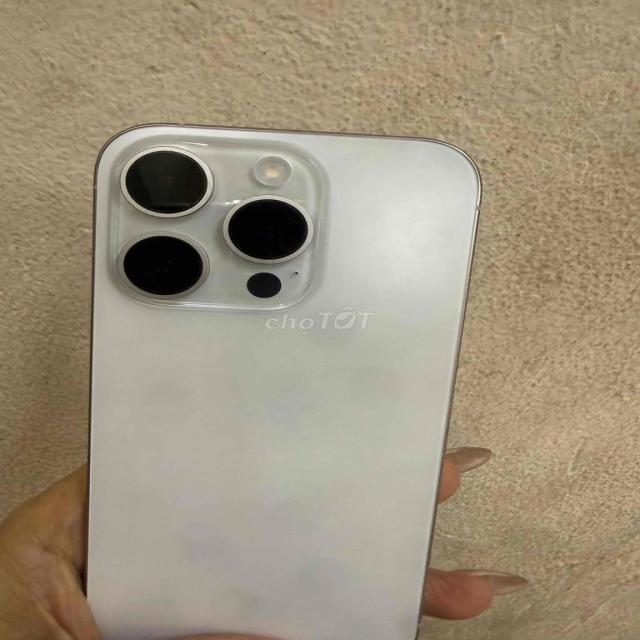gen_15: (78, 118, 488, 640)
